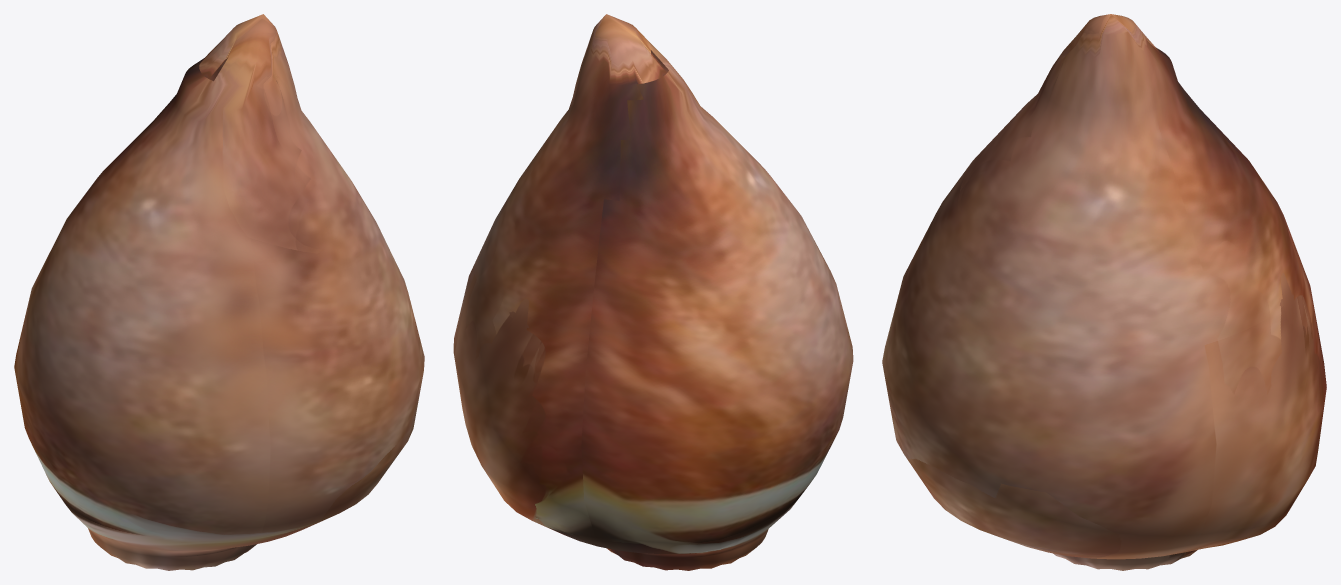
The model's file is Tulip_bulb.fbx.
3 views of the same model, side by side, from view 1: azimuth 30°, elevation 25°; view 2: azimuth 150°, elevation 25°; view 3: azimuth 270°, elevation 25° (orthographic). The views are drawn at different scales.
Visible parts, largest first — view 1: pCylinder2; view 2: pCylinder2; view 3: pCylinder2.
Boxes of the visible parts, x1,y1,x2,y2 form: pCylinder2: [14, 14, 424, 570]; pCylinder2: [453, 14, 853, 570]; pCylinder2: [882, 14, 1326, 570].
Size of the model in its own units: 4.74 by 6.66 by 4.63.
